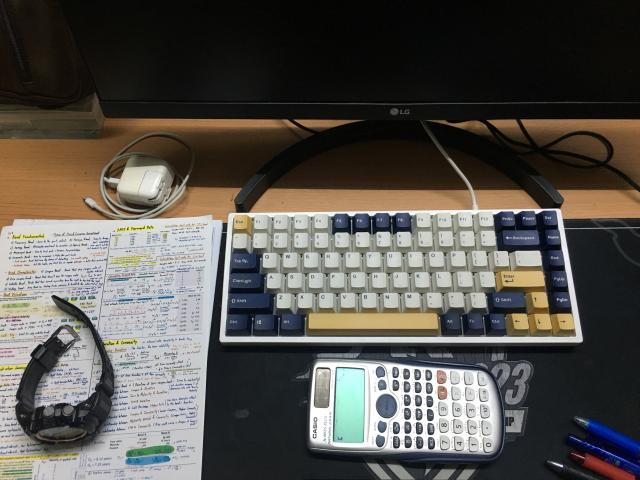Pen: (549, 419, 640, 480)
Watch: (16, 295, 114, 444)
paper: (0, 216, 215, 479)
wire: (84, 132, 195, 219)
